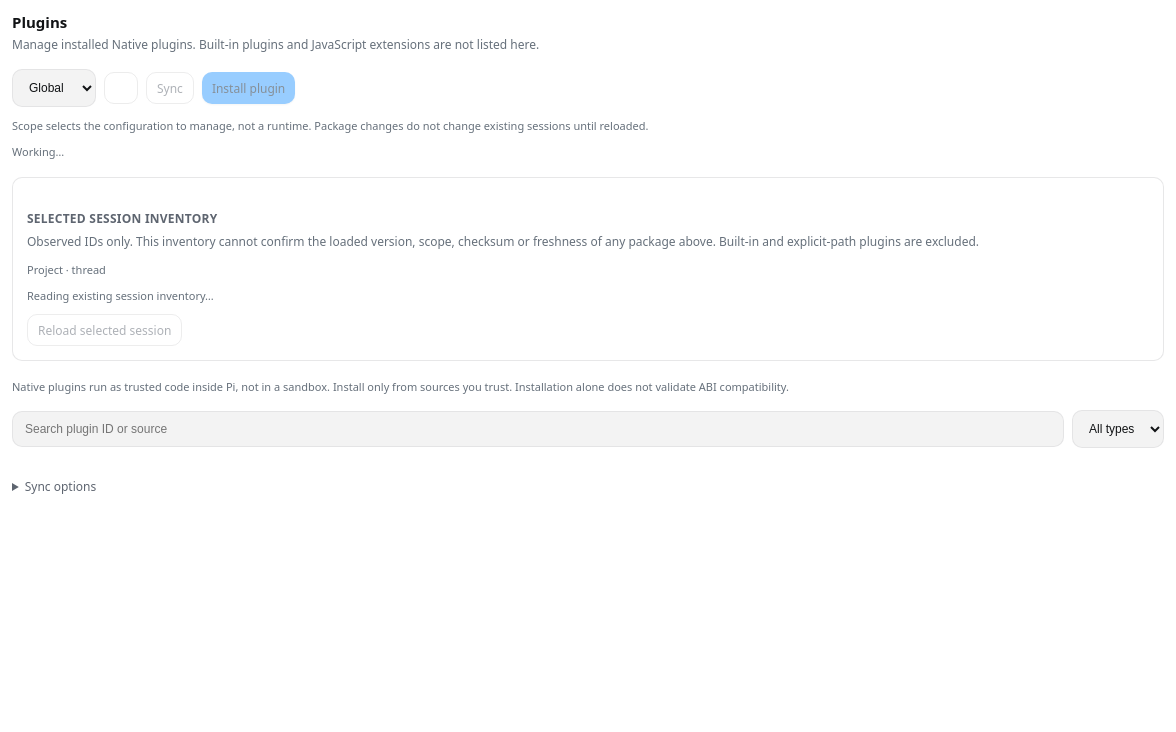
it: SettingsPluginsSection › ignores late scope and runtime reads when viewing a different project
Select "Other" in the dropdown named "Configuration scope" at (54, 88), box [12,69,96,107]
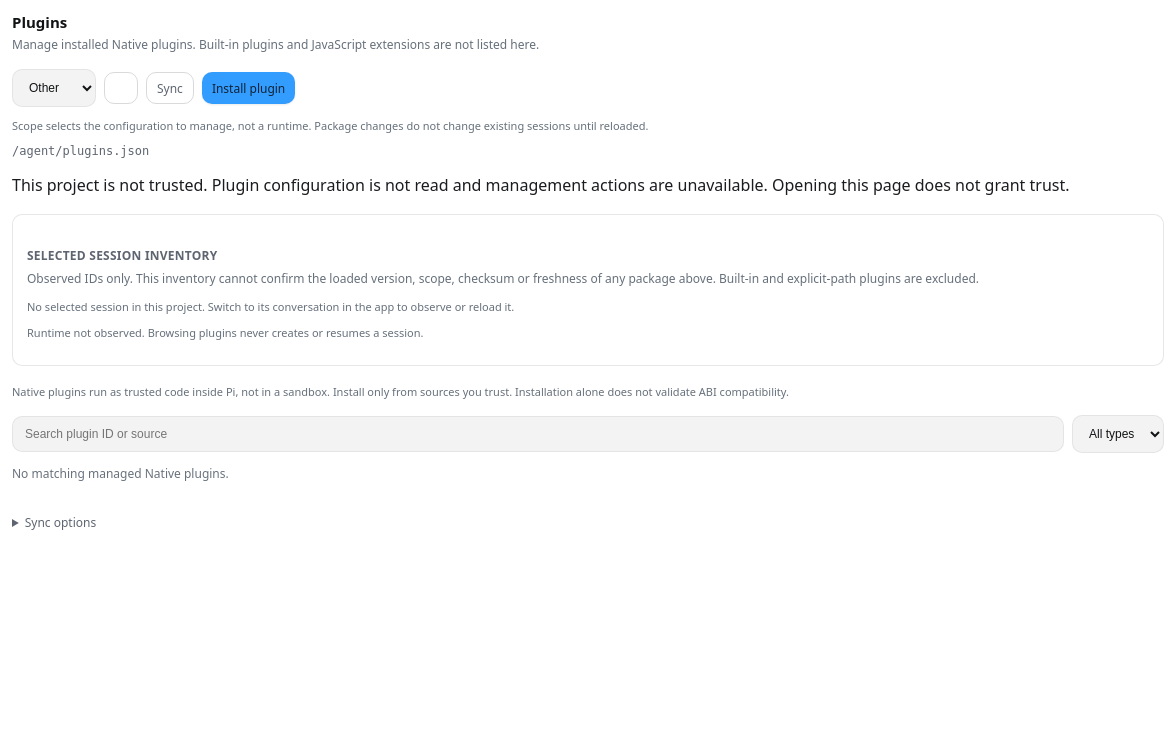
Expected: the button "Reload selected session" is gone
